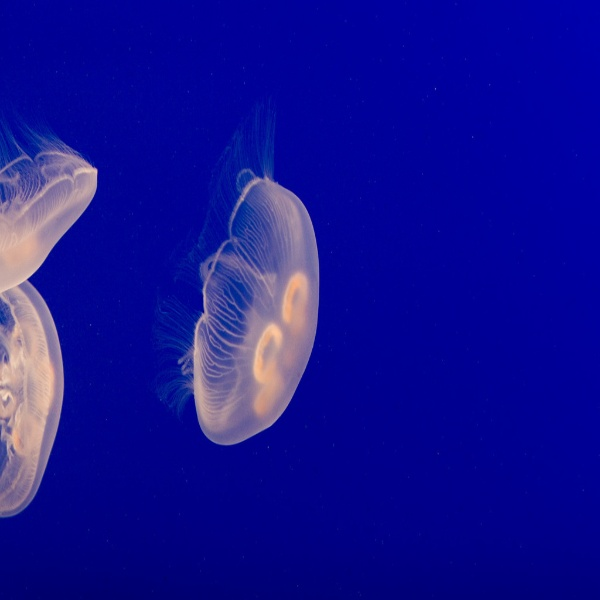Jellyfish: (153, 97, 319, 445), (0, 127, 100, 298), (0, 278, 66, 520)
